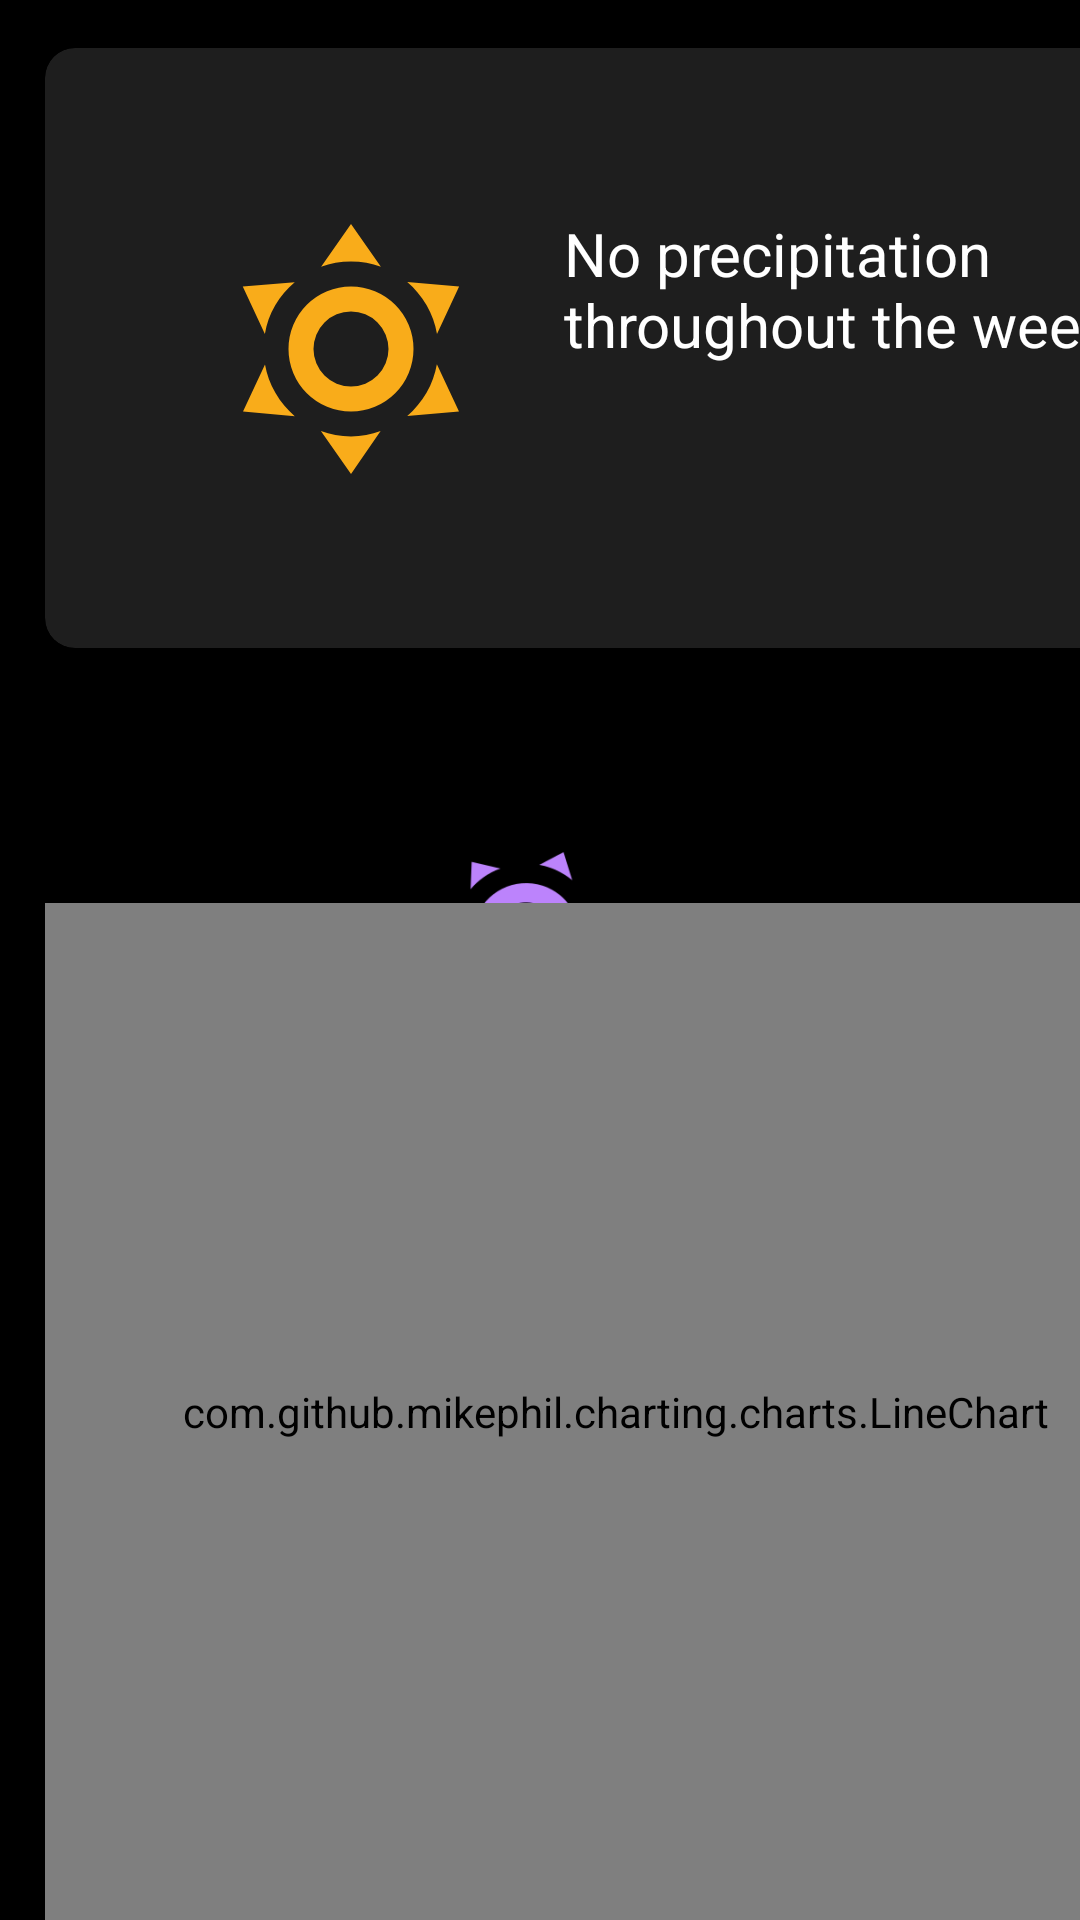

Locate icon controls on the screen. Image size 1080*1920, boxes as (x1, y1, x2, y2).
weather clearday: (243, 224, 459, 474)
